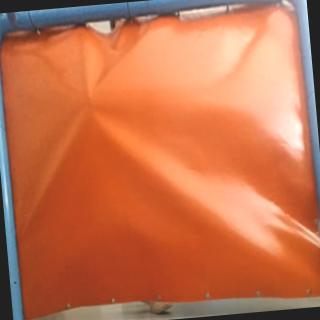Hit-hRxx: (84, 92, 98, 106)
